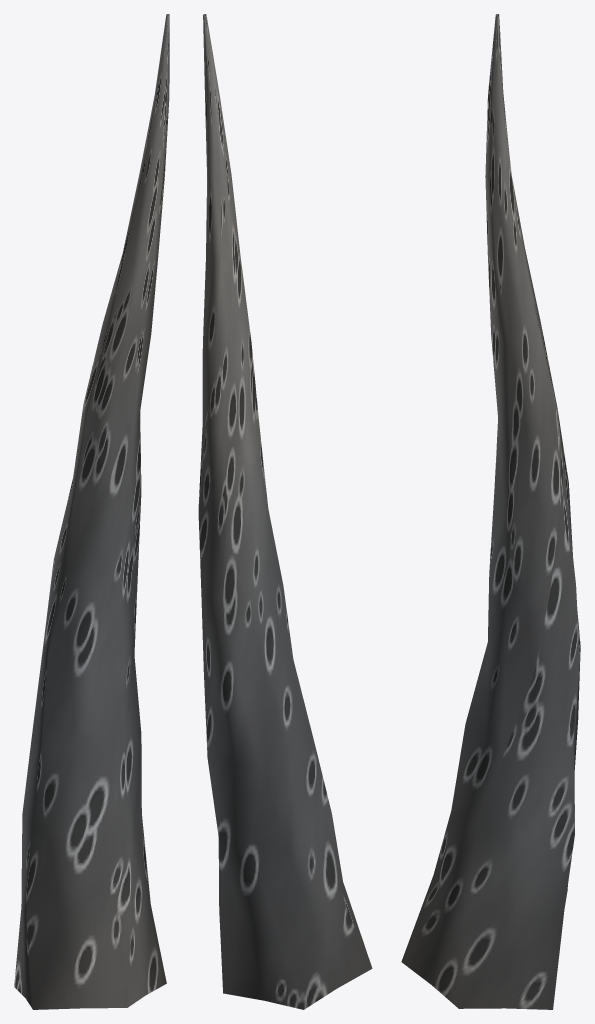
The model's file is spire_l0.gltf.
3 renders of one model, left to right at view 1: azimuth 30°, elevation 25°; view 2: azimuth 150°, elevation 25°; view 3: azimuth 270°, elevation 25°, orthographic. The views are drawn at different scales.
Visible parts, largest first — view 1: spire_l0; view 2: spire_l0; view 3: spire_l0.
Boxes of the visible parts, bbox=[...] form: spire_l0: bbox=[14, 14, 169, 1009]; spire_l0: bbox=[198, 14, 372, 1009]; spire_l0: bbox=[401, 14, 580, 1009].
Bounding box in the file's own units: 1.01 × 6.04 × 0.9639.
Materials: 1 (1 with a texture image).
